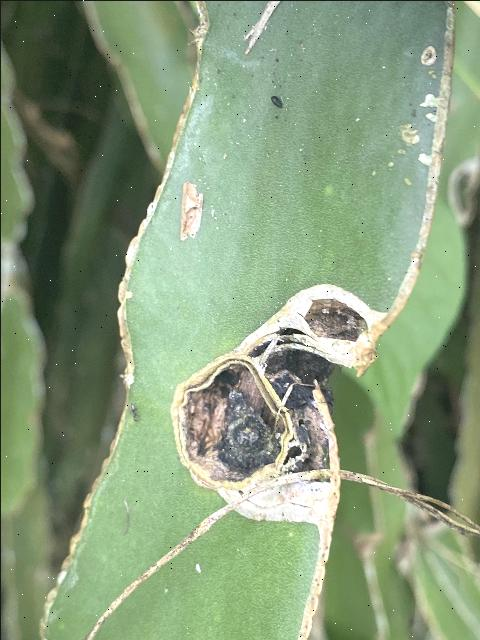stemcanker: (171, 280, 395, 529)
